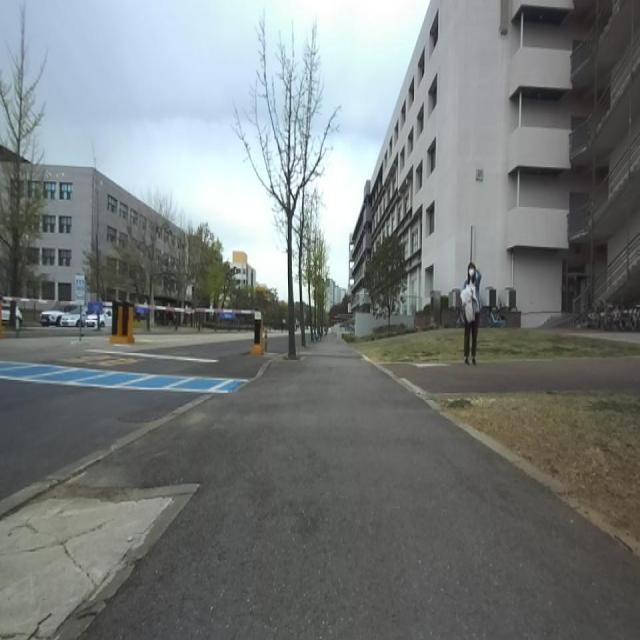sidewalk: (0, 339, 640, 640)
